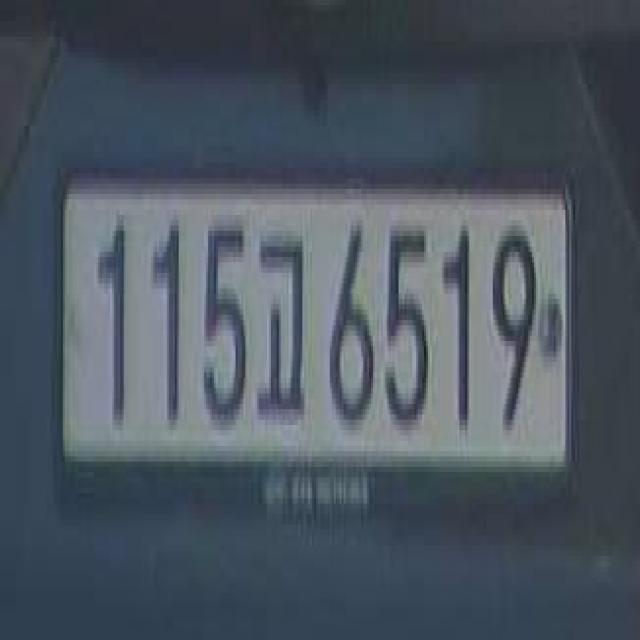illegal_plate: (47, 159, 575, 516)
